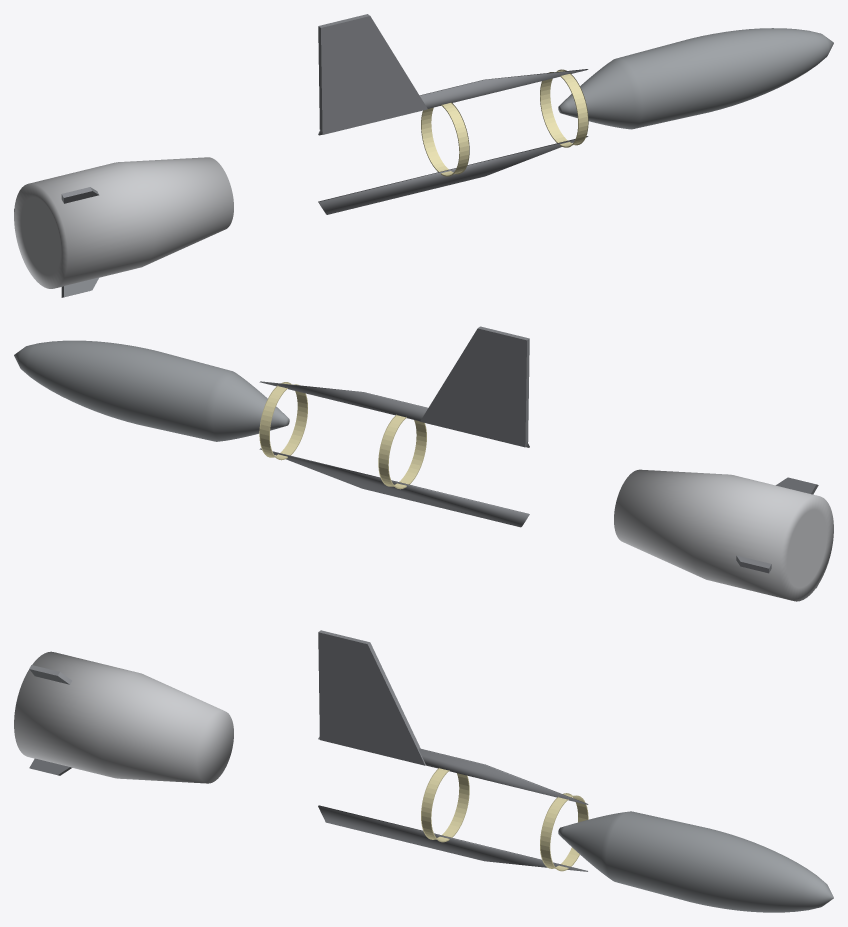
Rendered from US_ASM_Tomahawk_TASM_LOD0.fbx.
3 views of the same model, one above another, from view 1: azimuth 30°, elevation 25°; view 2: azimuth 150°, elevation 25°; view 3: azimuth 330°, elevation 25° (orthographic).
Visible parts, largest first — view 1: WPN_US_ASM_Tomahawk_TASM_LOD0_Tail, WPN_US_ASM_Tomahawk_TASM_LOD0_Body, WPN_US_ASM_Tomahawk_TASM_LOD0_Wings, WPN_US_ASM_Tomahawk_TASM_LOD0_Detail, WPN_US_ASM_Tomahawk_TASM_LOD0_Marking, WPN_US_ASM_Tomahawk_TASM_LOD0_Fins; view 2: WPN_US_ASM_Tomahawk_TASM_LOD0_Tail, WPN_US_ASM_Tomahawk_TASM_LOD0_Body, WPN_US_ASM_Tomahawk_TASM_LOD0_Wings, WPN_US_ASM_Tomahawk_TASM_LOD0_Detail, WPN_US_ASM_Tomahawk_TASM_LOD0_Marking, WPN_US_ASM_Tomahawk_TASM_LOD0_Fins; view 3: WPN_US_ASM_Tomahawk_TASM_LOD0_Tail, WPN_US_ASM_Tomahawk_TASM_LOD0_Body, WPN_US_ASM_Tomahawk_TASM_LOD0_Wings, WPN_US_ASM_Tomahawk_TASM_LOD0_Detail, WPN_US_ASM_Tomahawk_TASM_LOD0_Marking, WPN_US_ASM_Tomahawk_TASM_LOD0_Fins.
Boxes of the visible parts, x1,y1,x2,y2 form: WPN_US_ASM_Tomahawk_TASM_LOD0_Tail: [14, 157, 233, 288]; WPN_US_ASM_Tomahawk_TASM_LOD0_Body: [558, 28, 833, 129]; WPN_US_ASM_Tomahawk_TASM_LOD0_Wings: [318, 14, 427, 134]; WPN_US_ASM_Tomahawk_TASM_LOD0_Detail: [318, 69, 588, 214]; WPN_US_ASM_Tomahawk_TASM_LOD0_Marking: [421, 69, 588, 176]; WPN_US_ASM_Tomahawk_TASM_LOD0_Fins: [14, 187, 99, 297]; WPN_US_ASM_Tomahawk_TASM_LOD0_Tail: [614, 469, 833, 601]; WPN_US_ASM_Tomahawk_TASM_LOD0_Body: [14, 340, 289, 441]; WPN_US_ASM_Tomahawk_TASM_LOD0_Wings: [420, 326, 529, 447]; WPN_US_ASM_Tomahawk_TASM_LOD0_Detail: [259, 381, 529, 527]; WPN_US_ASM_Tomahawk_TASM_LOD0_Marking: [259, 382, 426, 489]; WPN_US_ASM_Tomahawk_TASM_LOD0_Fins: [736, 477, 818, 588]; WPN_US_ASM_Tomahawk_TASM_LOD0_Tail: [14, 651, 233, 783]; WPN_US_ASM_Tomahawk_TASM_LOD0_Body: [558, 811, 833, 912]; WPN_US_ASM_Tomahawk_TASM_LOD0_Wings: [318, 630, 425, 765]; WPN_US_ASM_Tomahawk_TASM_LOD0_Detail: [318, 736, 588, 871]; WPN_US_ASM_Tomahawk_TASM_LOD0_Marking: [421, 768, 588, 871]; WPN_US_ASM_Tomahawk_TASM_LOD0_Fins: [29, 665, 71, 775].
Bounding box in the file's own units: 6.25 × 0.8112 × 1.46.
